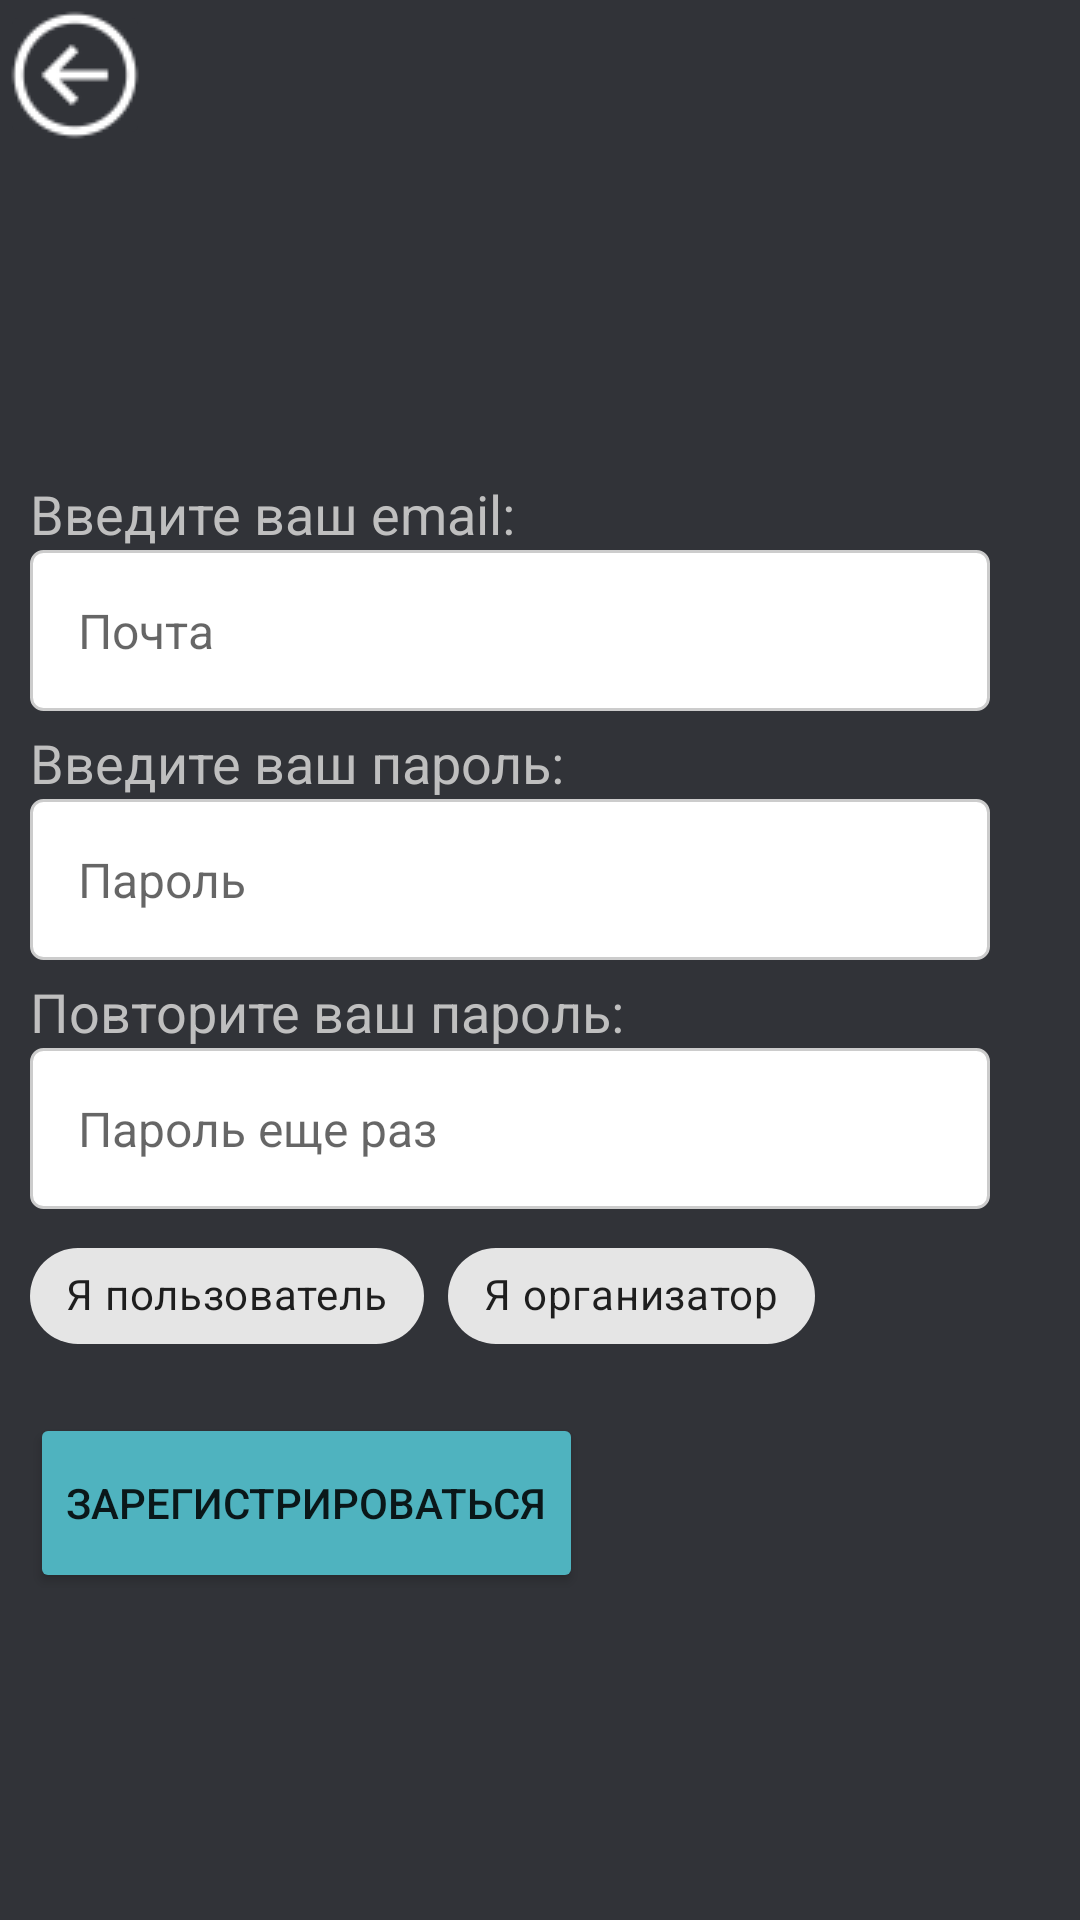

Point at icon controls on the screen. Image size 1080w x 1920h, points as [x,y].
go back: [75,75]
